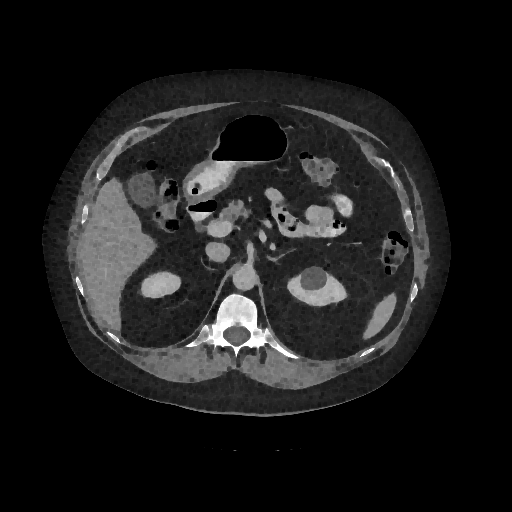Lesion: (297, 264, 332, 294)
